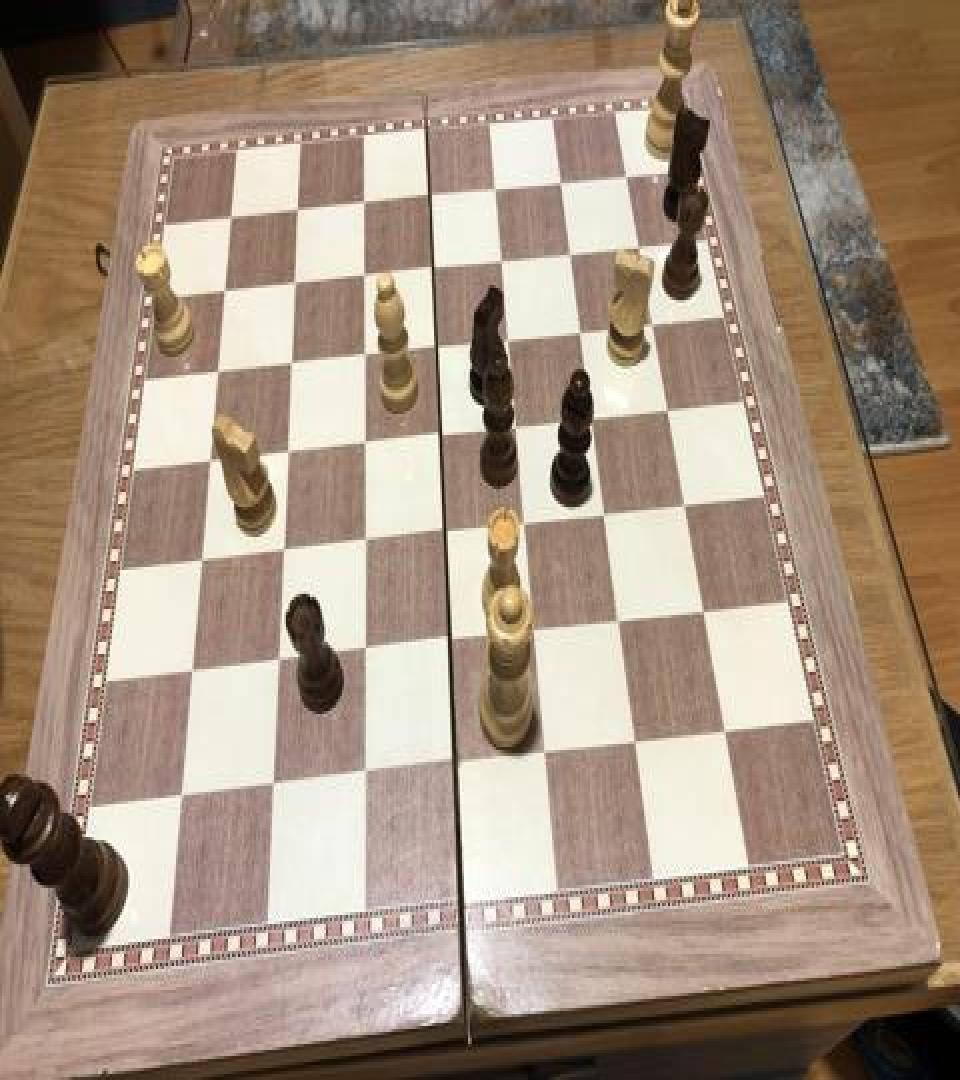xcorner: (187, 544, 211, 581), (610, 601, 634, 638), (619, 152, 643, 188), (552, 159, 576, 195), (486, 166, 510, 202), (419, 174, 443, 210), (352, 182, 376, 218), (285, 189, 309, 225), (218, 198, 242, 234), (631, 222, 655, 258), (562, 231, 586, 267), (492, 238, 516, 274), (422, 248, 446, 284), (352, 255, 376, 291), (282, 264, 306, 300), (211, 272, 235, 308), (645, 302, 669, 338), (572, 309, 596, 345), (499, 318, 523, 354), (425, 327, 449, 363), (352, 336, 376, 372), (278, 345, 302, 381), (204, 352, 228, 388), (660, 387, 684, 423), (583, 396, 607, 432), (506, 406, 530, 442), (429, 416, 453, 452), (351, 424, 375, 460), (274, 434, 298, 470), (196, 444, 220, 480), (677, 483, 701, 519), (596, 494, 620, 530), (515, 504, 539, 540), (433, 513, 457, 549), (351, 524, 375, 560), (269, 534, 293, 570), (696, 591, 720, 627), (524, 612, 548, 648), (438, 624, 462, 660), (351, 634, 375, 670), (264, 645, 288, 681), (176, 656, 200, 692), (717, 711, 741, 747), (626, 723, 650, 759), (535, 735, 559, 771), (443, 747, 467, 783), (351, 759, 375, 795), (258, 771, 282, 807), (165, 783, 189, 819)
